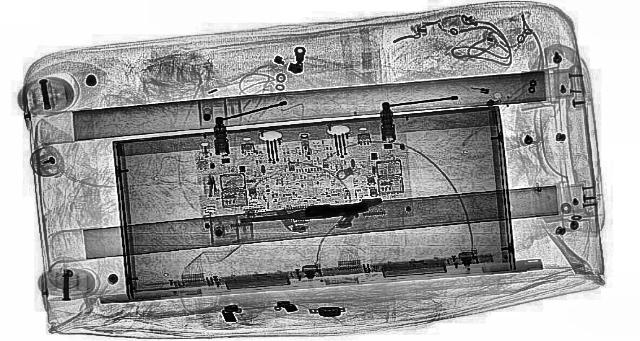Gun: (233, 195, 387, 231)
